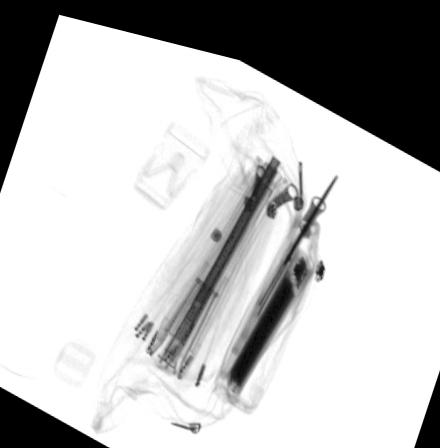Powerbank: (220, 229, 314, 391)
Scissors: (227, 145, 346, 348)
